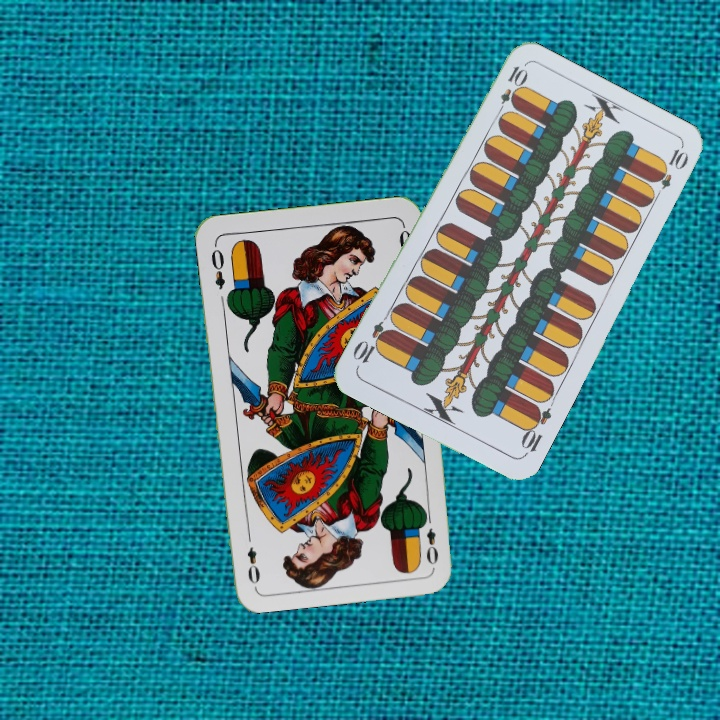E10: (516, 401, 554, 459), (493, 62, 528, 119)
EO: (418, 509, 441, 568), (207, 240, 228, 292)
